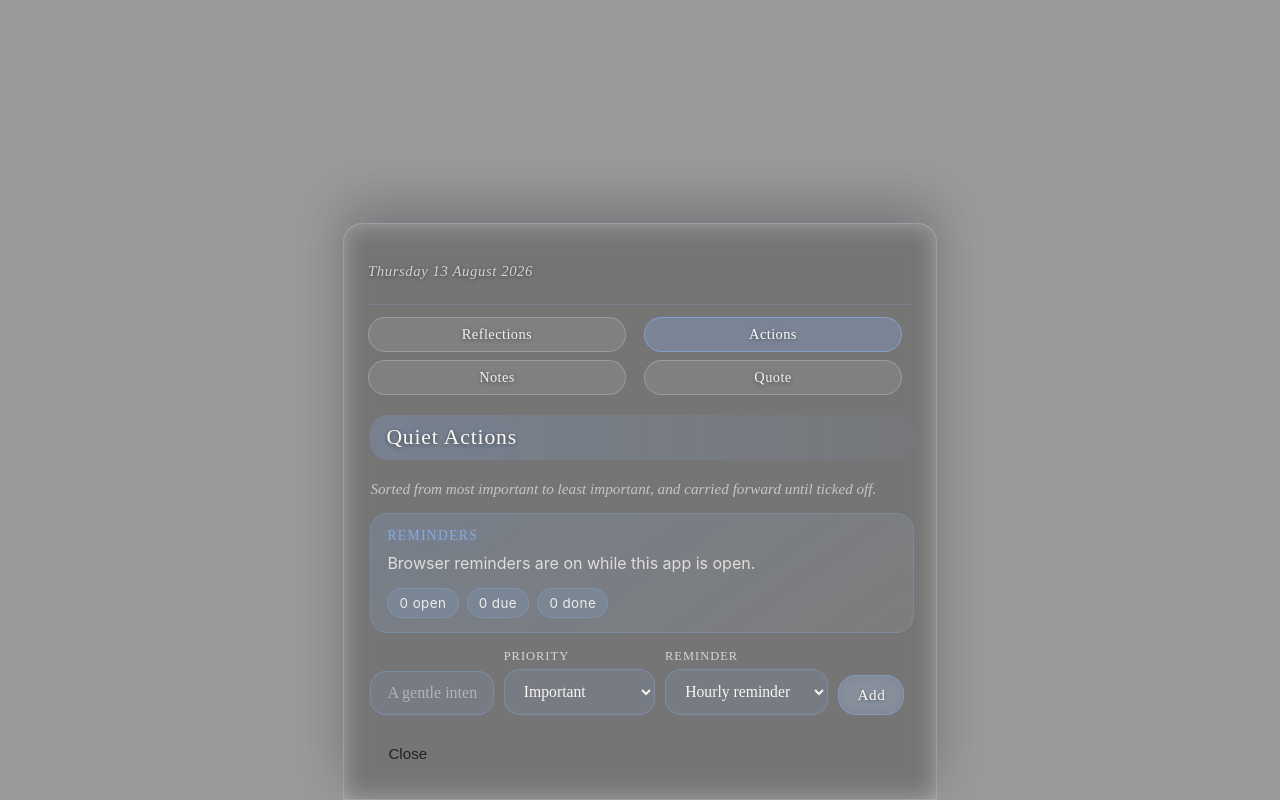
Test case: adds a priority action with reminder metadata
In the field with placeholder "A gentle intention…": (432, 693) [370,671,494,715], type "Call florist"
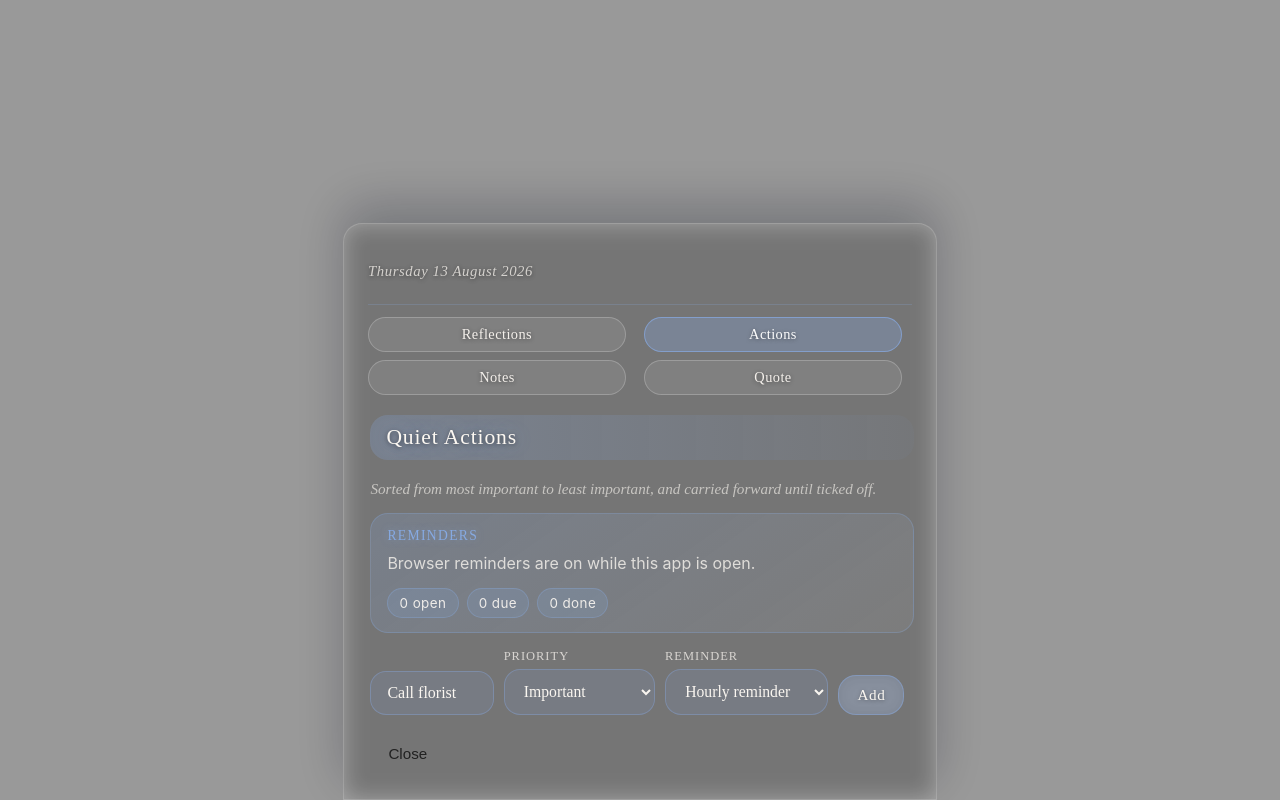
Select "Most important" in the dropdown labelled "Priority": (579, 692) [504,669,655,715]
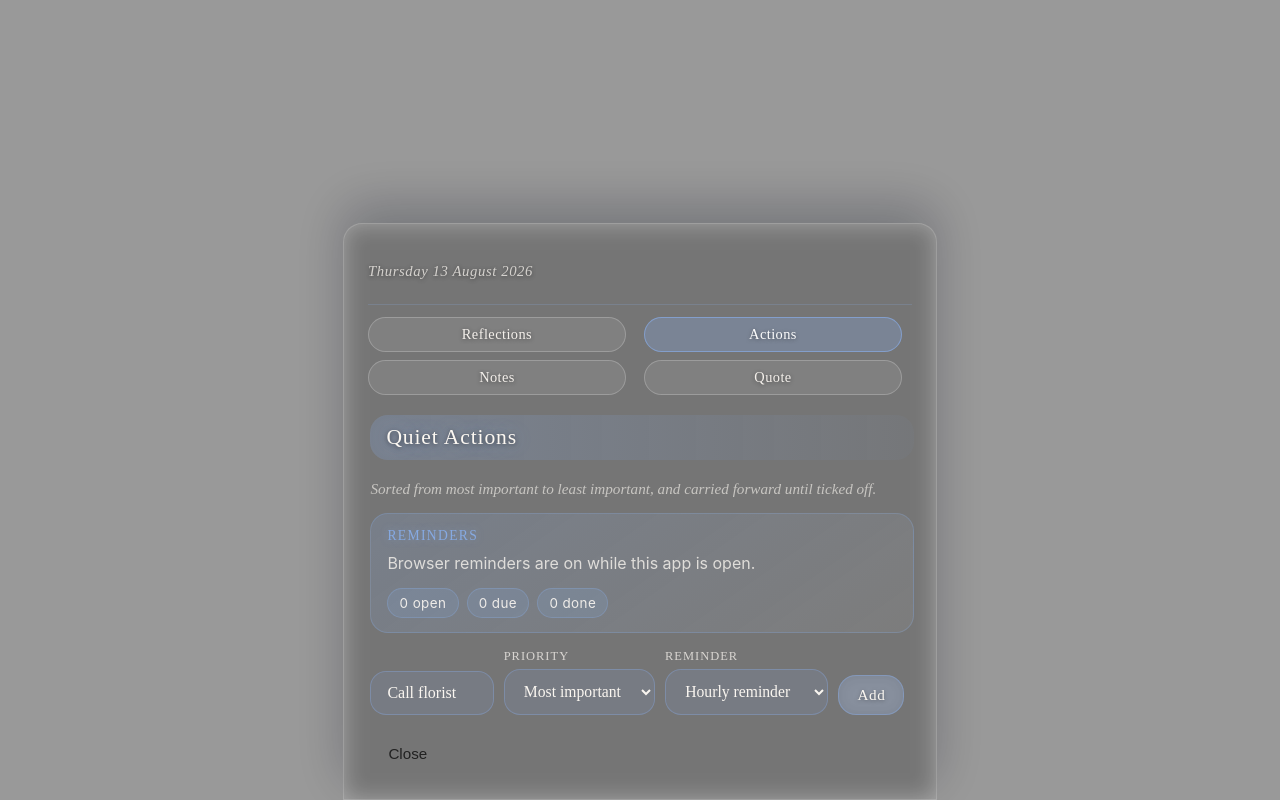
Select "No reminder" in the dropdown labelled "Reminder": (747, 692) [665,669,828,715]
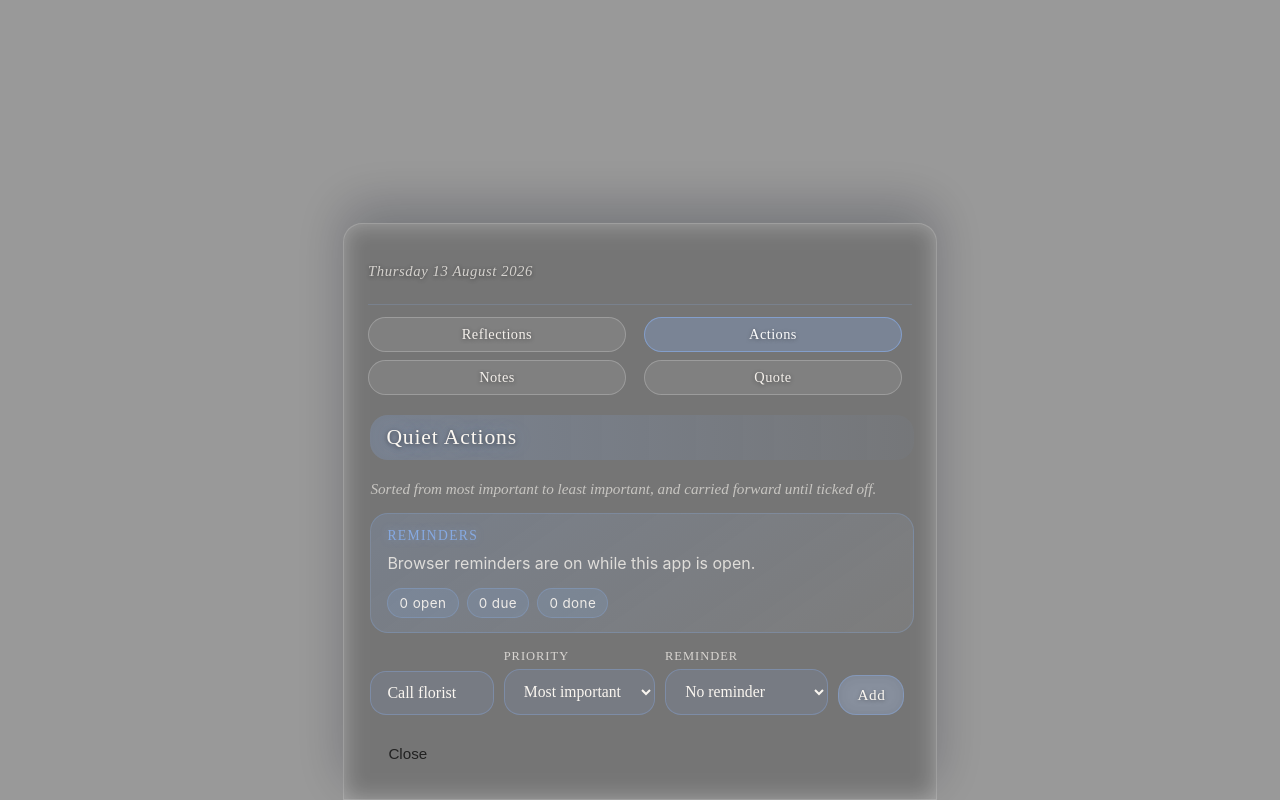
Click the button "Add": (871, 695) [838,675,904,715]
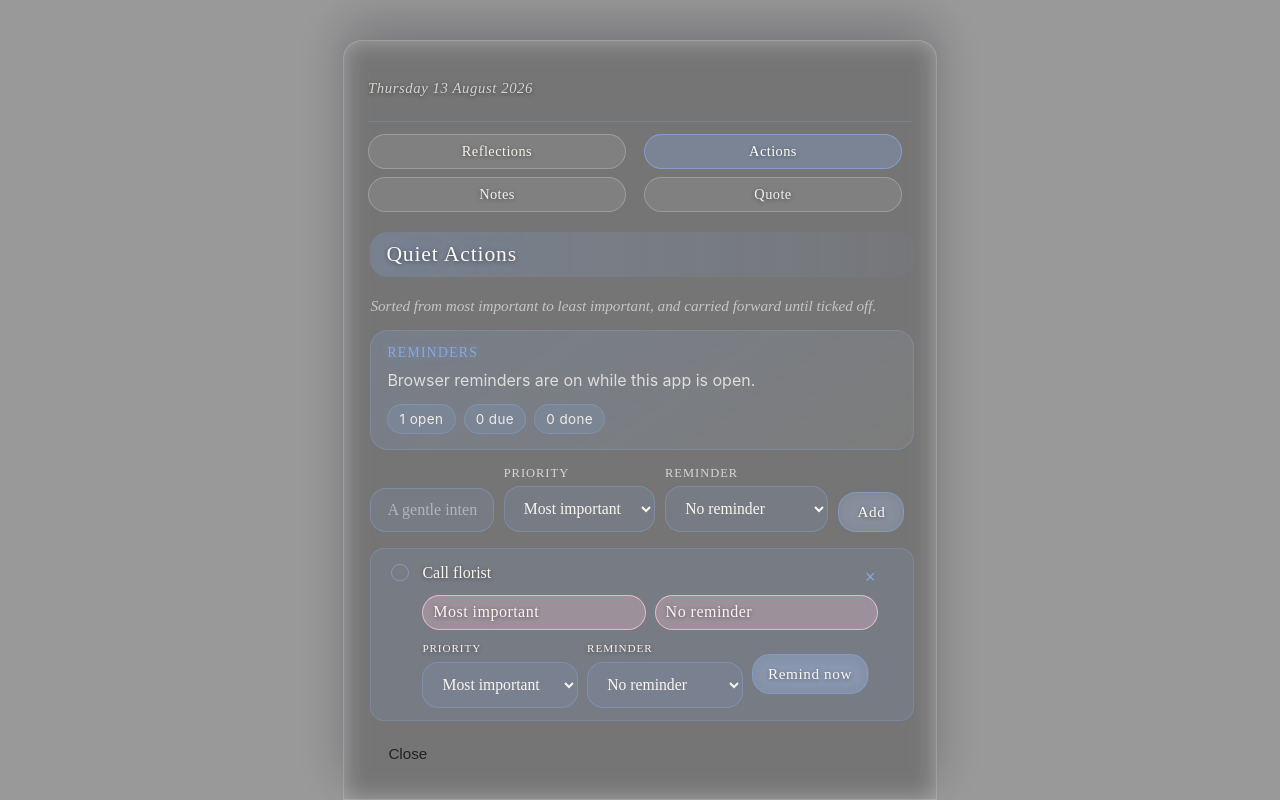
Expected: the text "Call florist" is shown, [422,564,491,581]
Expected: the text "Most important" is shown, [422,595,646,630]
